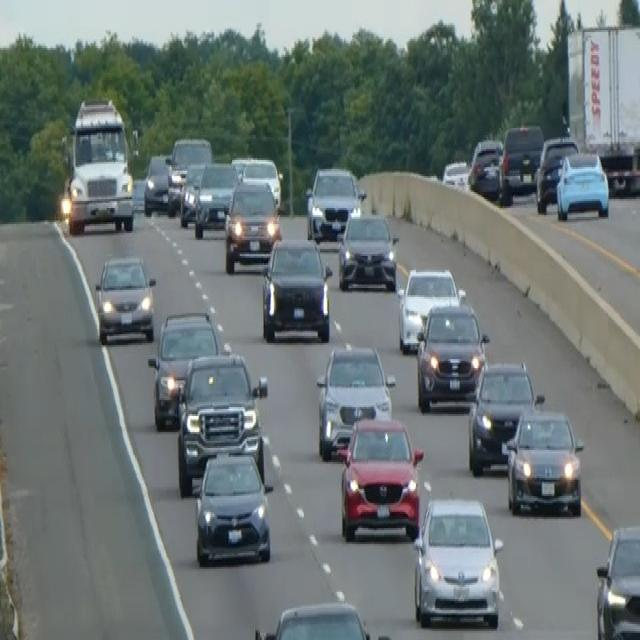car: (175, 350, 268, 496), (412, 494, 503, 630), (337, 414, 424, 540), (147, 308, 228, 430), (502, 402, 585, 517), (193, 448, 274, 565), (315, 341, 395, 459), (467, 357, 541, 475), (415, 298, 489, 412), (260, 235, 332, 341), (397, 265, 462, 354), (94, 252, 156, 345), (223, 176, 281, 272), (252, 599, 392, 638), (594, 523, 639, 638), (337, 210, 398, 292), (305, 164, 365, 242), (555, 150, 609, 220), (166, 135, 212, 215), (193, 160, 238, 238), (499, 121, 543, 199), (535, 135, 579, 212), (238, 154, 282, 210), (467, 137, 503, 199), (178, 160, 211, 226), (142, 151, 171, 215), (441, 158, 469, 188)
lorry: (565, 21, 639, 194), (60, 94, 136, 235)
